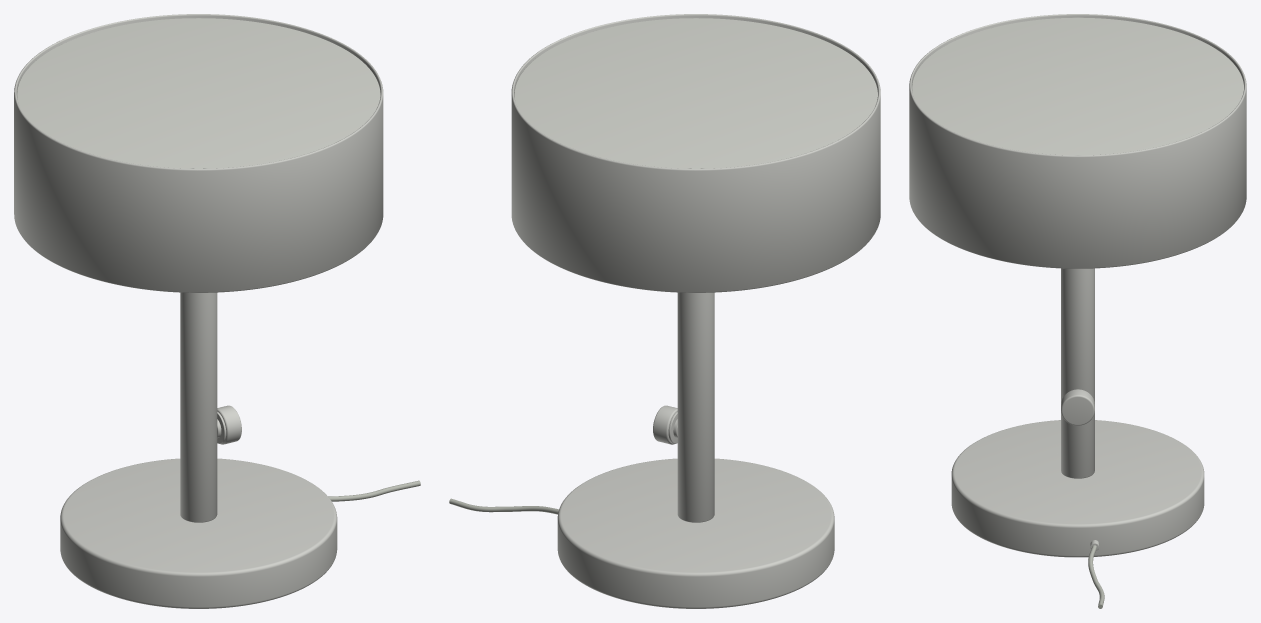
File: small_table_lamp.glb
The picture shows the model from 3 angles, left to right: view 1: azimuth 30°, elevation 25°; view 2: azimuth 150°, elevation 25°; view 3: azimuth 270°, elevation 25°; orthographic projection. The views are drawn at different scales.
Visible parts, largest first — view 1: Drum_Shade_24cm, Inset_Upper_Disc, Base_Round_18cm, Stem_24mm, Side_Control_Knob, Power_Cord_Visible_Portion; view 2: Drum_Shade_24cm, Inset_Upper_Disc, Base_Round_18cm, Stem_24mm, Power_Cord_Visible_Portion, Side_Control_Knob; view 3: Drum_Shade_24cm, Inset_Upper_Disc, Base_Round_18cm, Stem_24mm, Side_Control_Knob.
Part boxes in pixels (<box>): Drum_Shade_24cm: <box>14,14,383,292</box>; Inset_Upper_Disc: <box>17,18,380,168</box>; Base_Round_18cm: <box>60,458,337,608</box>; Stem_24mm: <box>180,292,217,522</box>; Side_Control_Knob: <box>217,405,241,444</box>; Power_Cord_Visible_Portion: <box>328,480,420,501</box>; Drum_Shade_24cm: <box>511,14,880,292</box>; Inset_Upper_Disc: <box>514,18,877,168</box>; Base_Round_18cm: <box>557,458,834,608</box>; Stem_24mm: <box>677,292,714,522</box>; Power_Cord_Visible_Portion: <box>449,498,558,514</box>; Side_Control_Knob: <box>653,405,677,444</box>; Drum_Shade_24cm: <box>909,14,1246,268</box>; Inset_Upper_Disc: <box>912,17,1243,155</box>; Base_Round_18cm: <box>951,420,1204,557</box>; Stem_24mm: <box>1061,268,1094,478</box>; Side_Control_Knob: <box>1061,389,1094,425</box>.
Size of the model in its own units: 0.2951 by 0.33 by 0.24.
3 materials, 3 textured.
